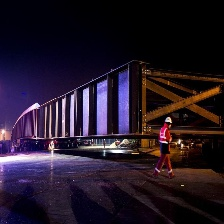helmet: (166, 117, 172, 125)
person: (153, 116, 177, 181)
vest: (160, 124, 169, 144)
